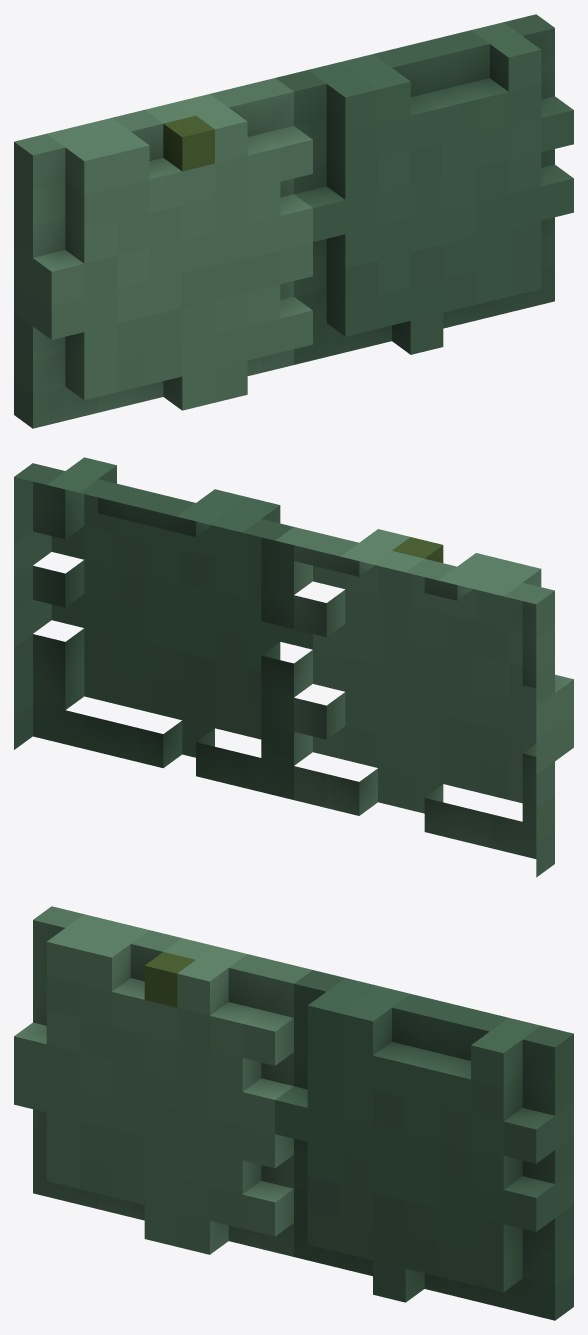
File: ashlar_plain_2.glb
3 views of the same model, one above another, from view 1: azimuth 30°, elevation 25°; view 2: azimuth 150°, elevation 25°; view 3: azimuth 330°, elevation 25° (orthographic).
Visible parts, largest first — view 1: ashlar_plain_2; view 2: ashlar_plain_2; view 3: ashlar_plain_2.
Part boxes in pixels (left/top/right/bottom): ashlar_plain_2: left=14, top=14, right=573, bottom=428; ashlar_plain_2: left=14, top=457, right=573, bottom=877; ashlar_plain_2: left=14, top=906, right=573, bottom=1320.
Bounding box in the file's own units: 1 × 0.5 × 0.125.
